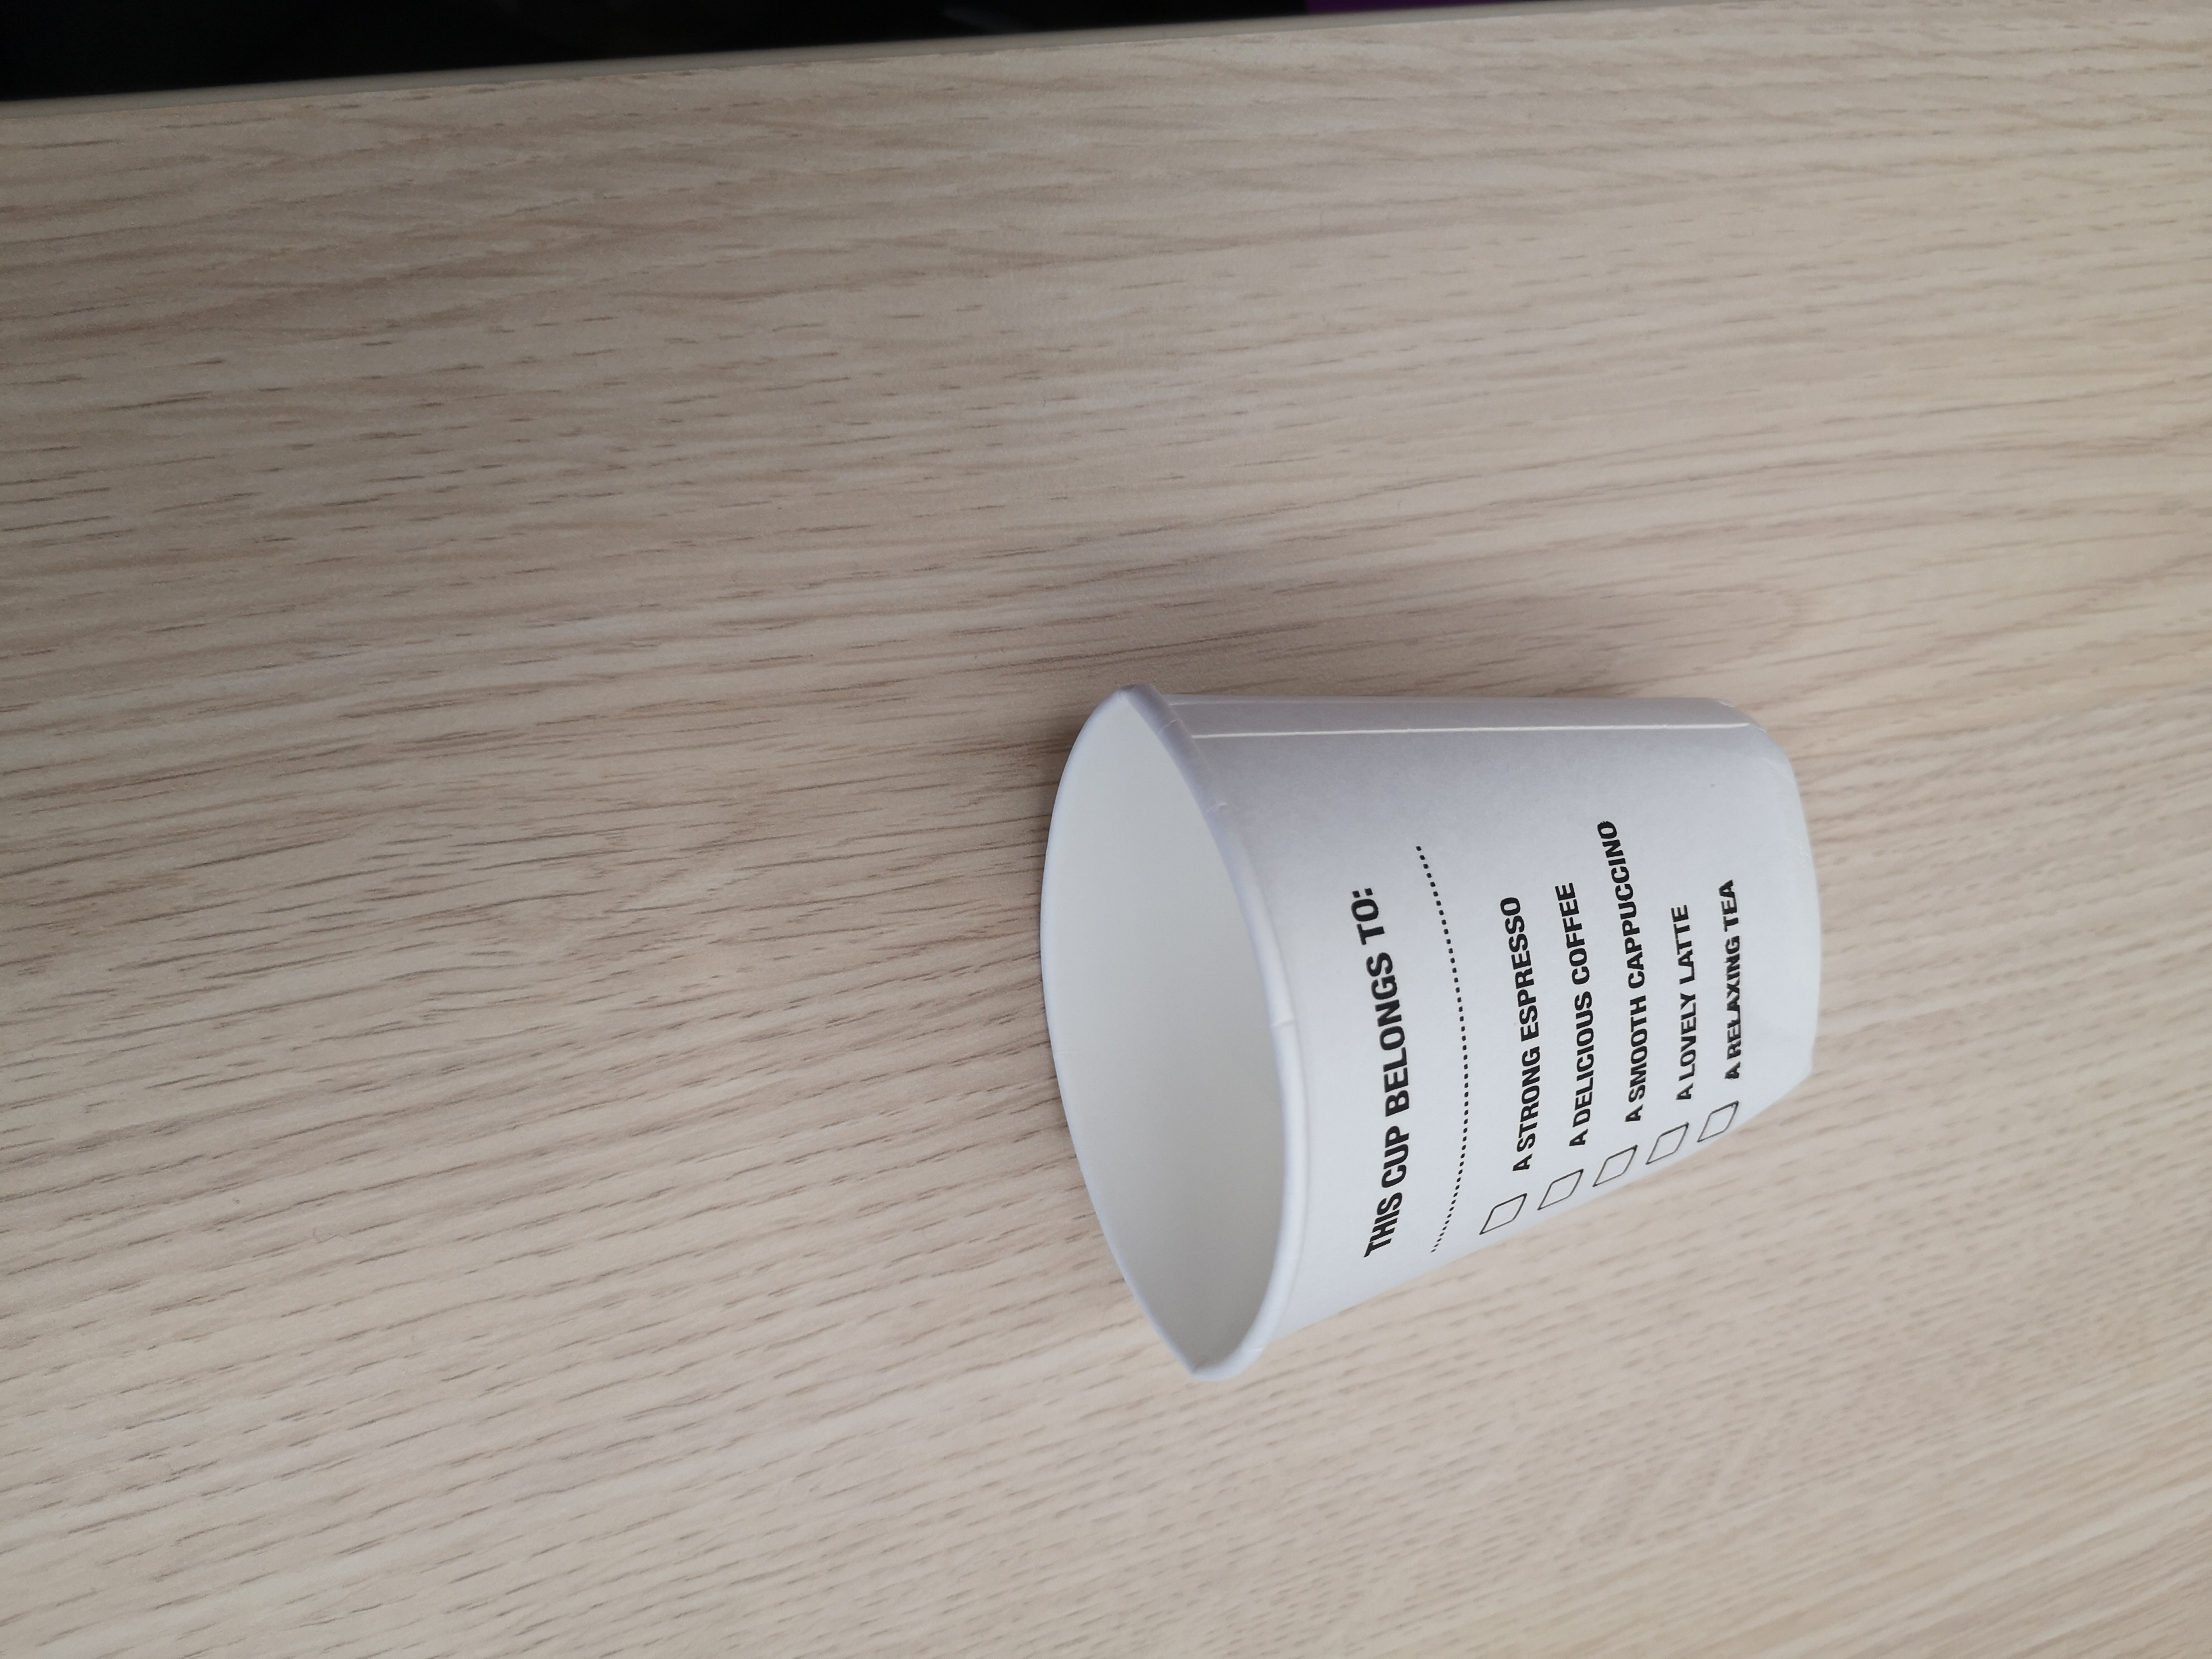cup: (984, 657, 1876, 1406)
